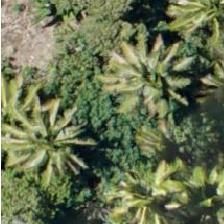coconut_tree: (87, 34, 177, 124), (7, 96, 97, 186), (105, 159, 195, 223), (172, 154, 223, 223)
